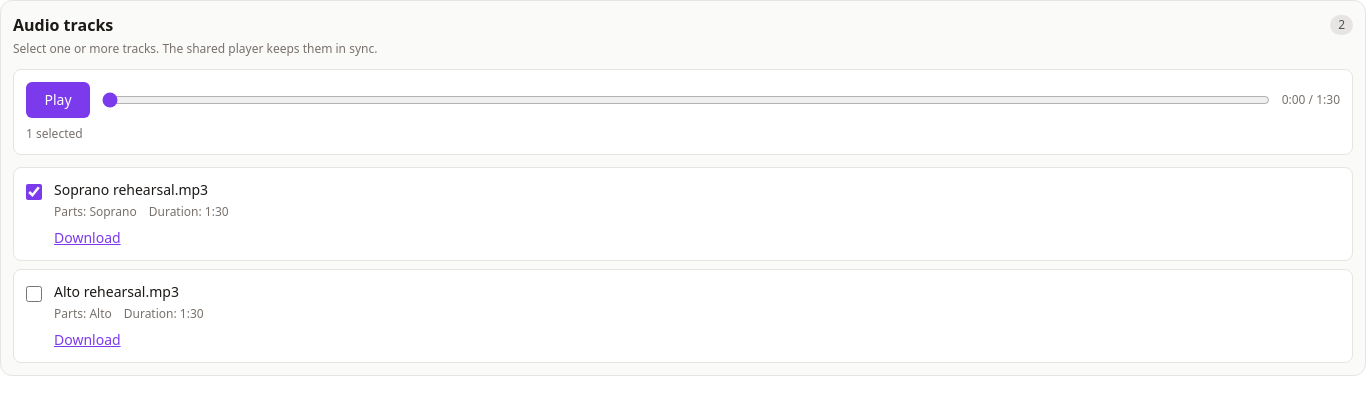
Test case: SynchronizedAudioPlayer › does not interrupt pending selected-track play requests when playback state renders
Click the checkbox labelled "Alto rehearsal.mp3" at {"x": 34, "y": 294}, box [26, 286, 42, 302]
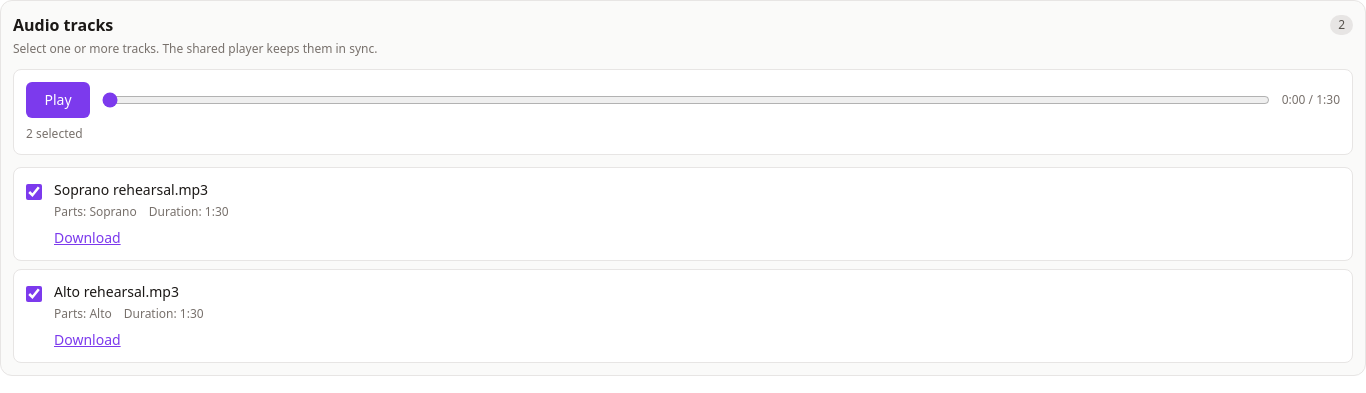
Click the button with aria-label "Play selected tracks" at {"x": 58, "y": 100}, box [26, 82, 90, 118]
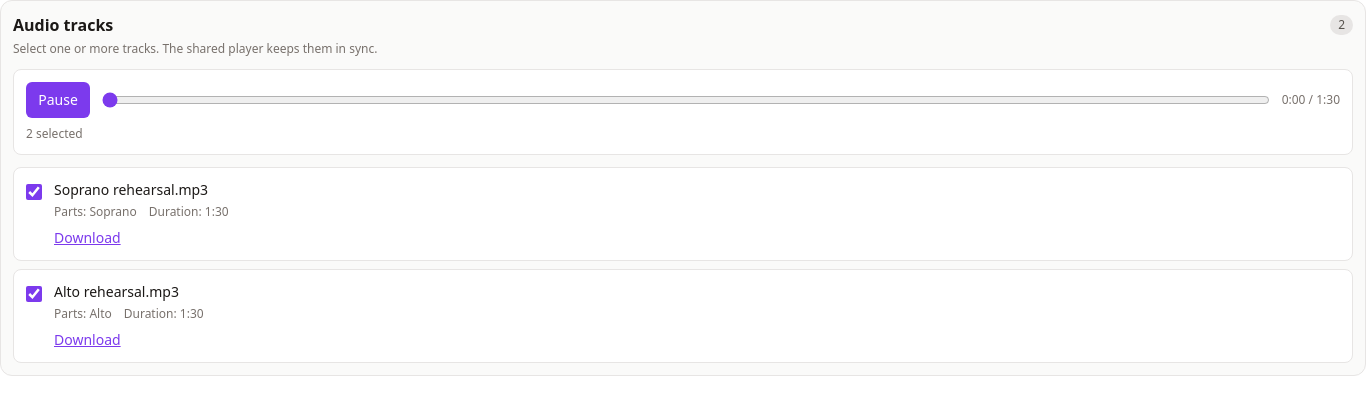
Now the button with aria-label "Pause selected tracks" is shown, box [26, 82, 90, 118]
